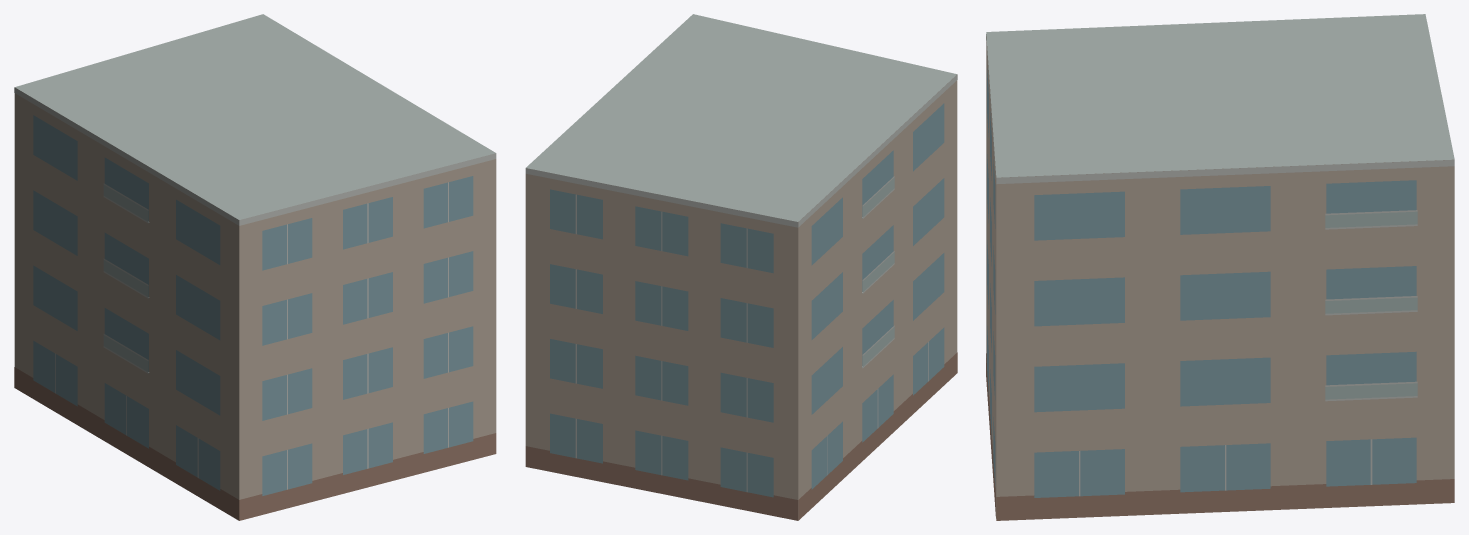
The model's file is survey-upis-32724084.glb.
3 views of the same model, side by side, from view 1: azimuth 30°, elevation 25°; view 2: azimuth 150°, elevation 25°; view 3: azimuth 270°, elevation 25° (orthographic). The views are drawn at different scales.
Visible parts, largest first — view 1: survey-upis-32724084.tmp; view 2: survey-upis-32724084.tmp; view 3: survey-upis-32724084.tmp.
Part boxes in pixels (left/top/right/bottom): survey-upis-32724084.tmp: left=14, top=14, right=496, bottom=520; survey-upis-32724084.tmp: left=525, top=14, right=957, bottom=520; survey-upis-32724084.tmp: left=986, top=14, right=1454, bottom=520.
Bounding box in the file's own units: 13.1 × 12.8 × 15.85.
